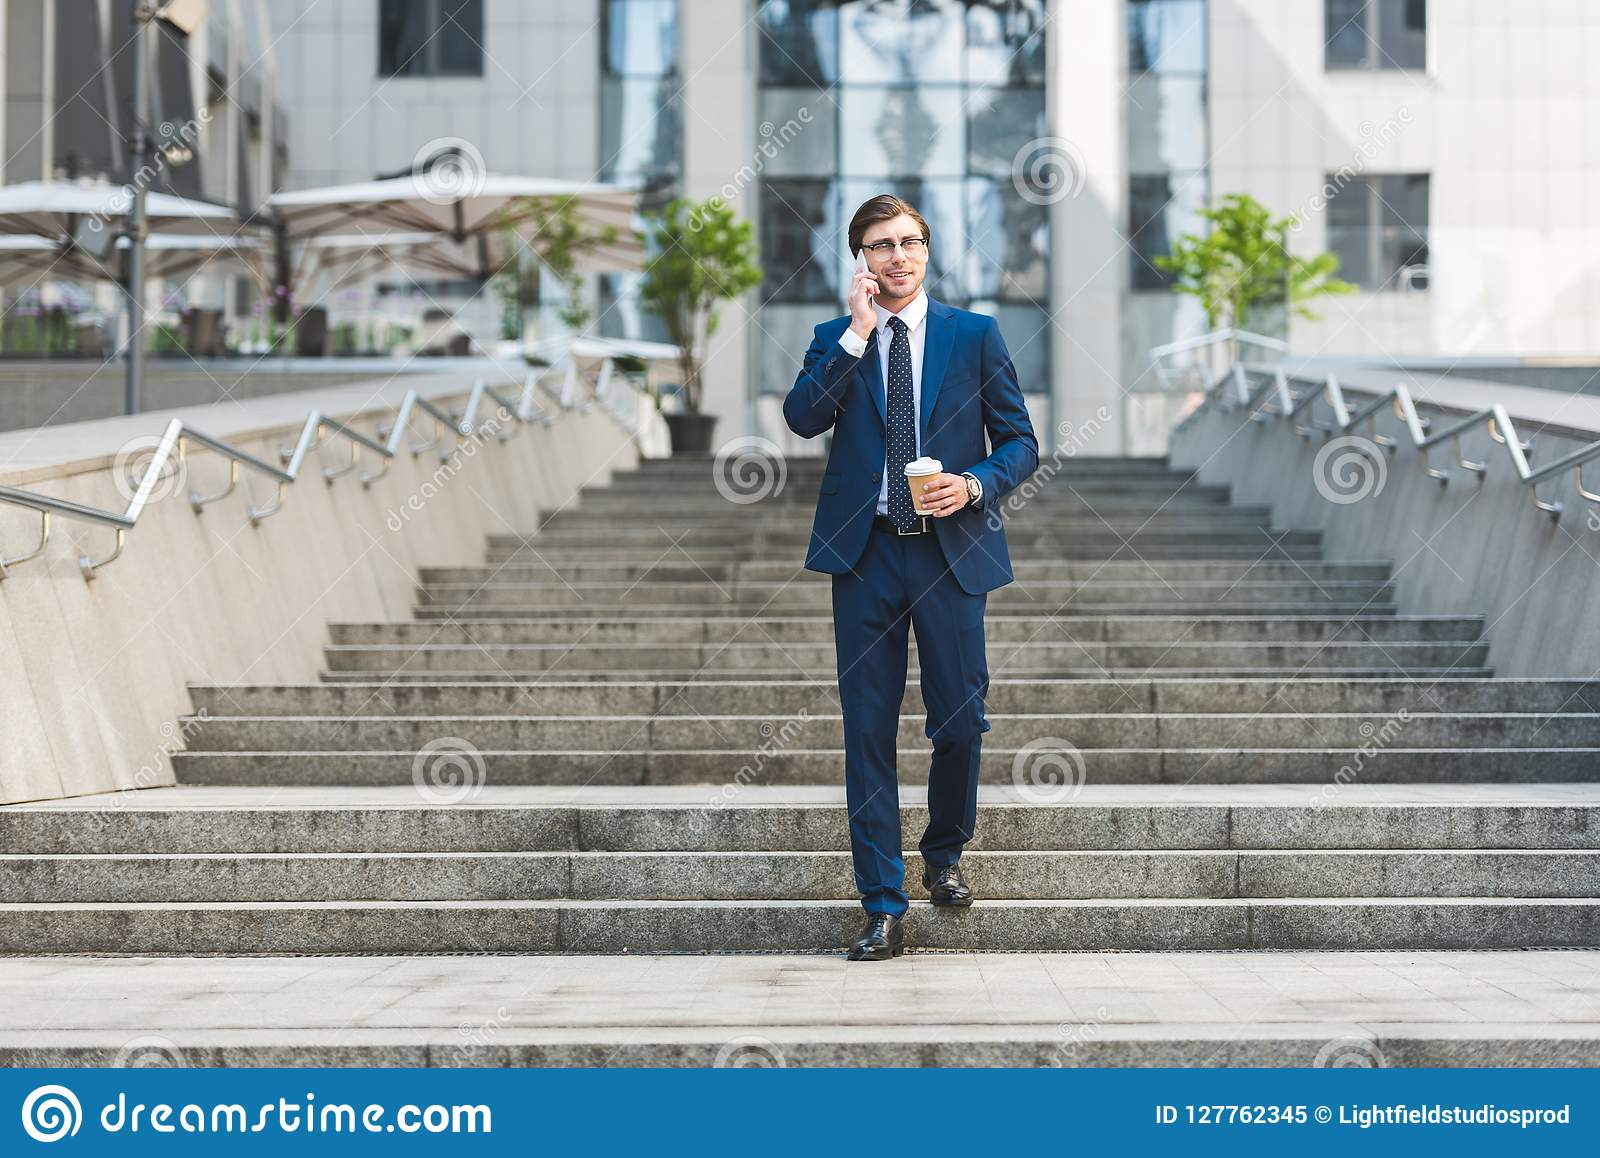phone: (852, 248, 876, 301)
talk: (846, 231, 925, 333)
